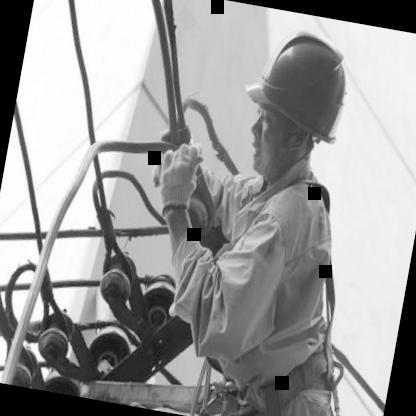helmet: (226, 10, 366, 201)
